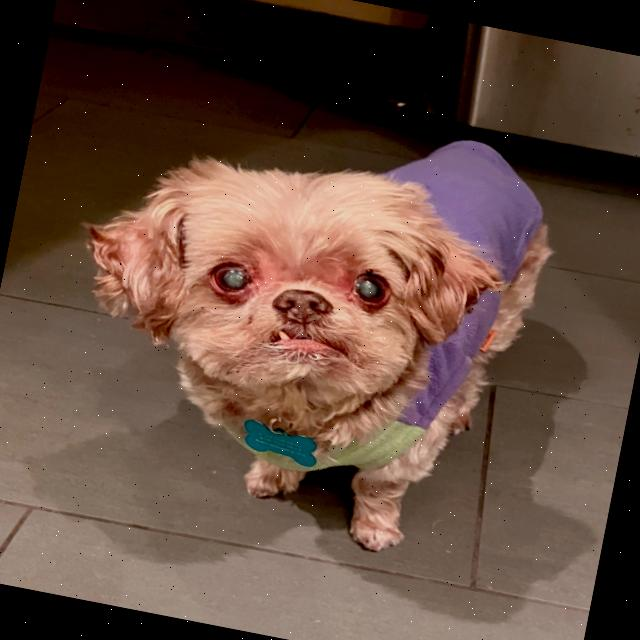shih_tzu_dog: (54, 112, 519, 474)
